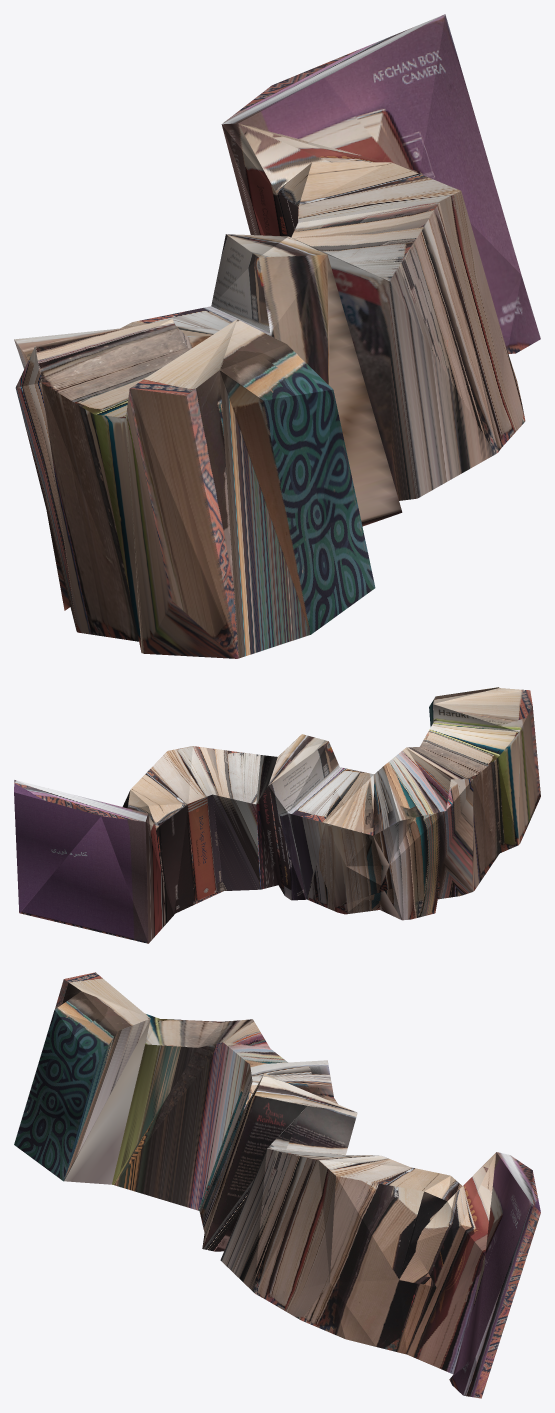
The model's file is Non_Cause_3.glb.
The picture shows the model from 3 angles, top to bottom: view 1: azimuth 30°, elevation 25°; view 2: azimuth 150°, elevation 25°; view 3: azimuth 270°, elevation 25°; orthographic projection. The views are drawn at different scales.
Parts seen in each view (by area): view 1: Scan 105_5; view 2: Scan 105_5; view 3: Scan 105_5.
Part boxes in pixels (x1=…): Scan 105_5: x1=14, y1=14, x2=540, y2=658; Scan 105_5: x1=14, y1=687, x2=540, y2=943; Scan 105_5: x1=14, y1=972, x2=540, y2=1398.
Bounding box in the file's own units: 101 × 51.18 × 106.
Materials: 1 (1 with a texture image).
